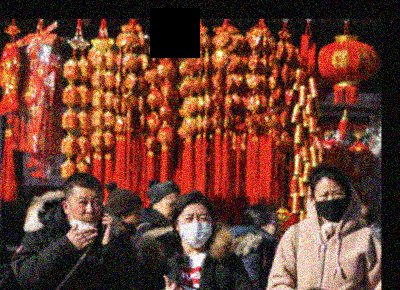mask_weared_incorrect: (68, 190, 102, 231)
with_mask: (314, 183, 349, 220), (177, 211, 210, 247)
without_mask: (123, 207, 141, 228), (263, 217, 279, 238)
